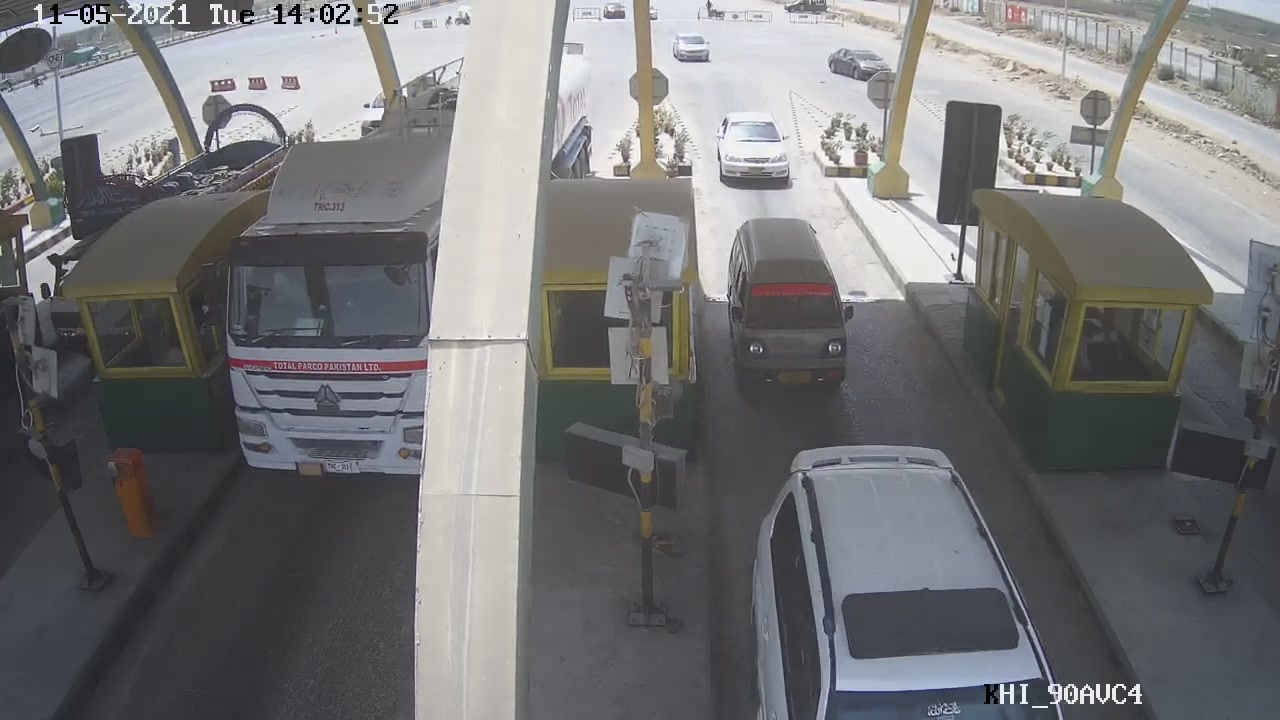F1: (724, 208, 870, 398)
